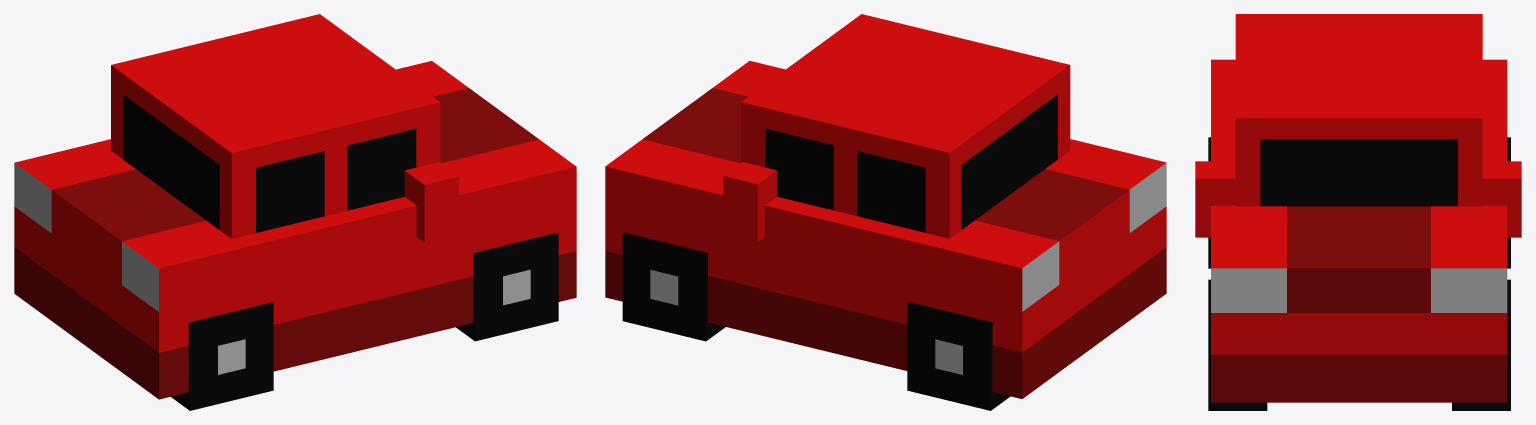
File: CarRed.fbx
The picture shows the model from 3 angles, left to right: view 1: azimuth 30°, elevation 25°; view 2: azimuth 150°, elevation 25°; view 3: azimuth 270°, elevation 25°; orthographic projection. The views are drawn at different scales.
Visible parts, largest first — view 1: Car:CarRed:pCube18; view 2: Car:CarRed:pCube18; view 3: Car:CarRed:pCube18.
Boxes of the visible parts, bbox=[...] form: Car:CarRed:pCube18: bbox=[14, 14, 576, 410]; Car:CarRed:pCube18: bbox=[605, 14, 1166, 410]; Car:CarRed:pCube18: bbox=[1195, 14, 1521, 410].
Size of the model in its own units: 0.7492 by 0.4023 by 0.4955.
